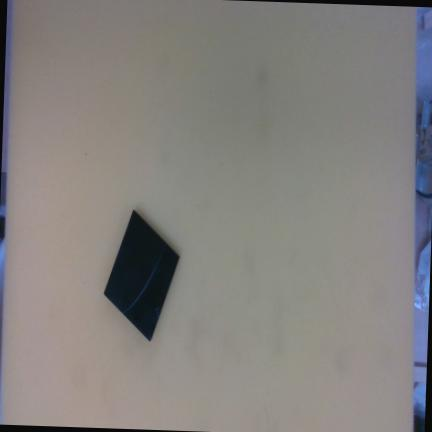tile: (94, 208, 189, 344)
